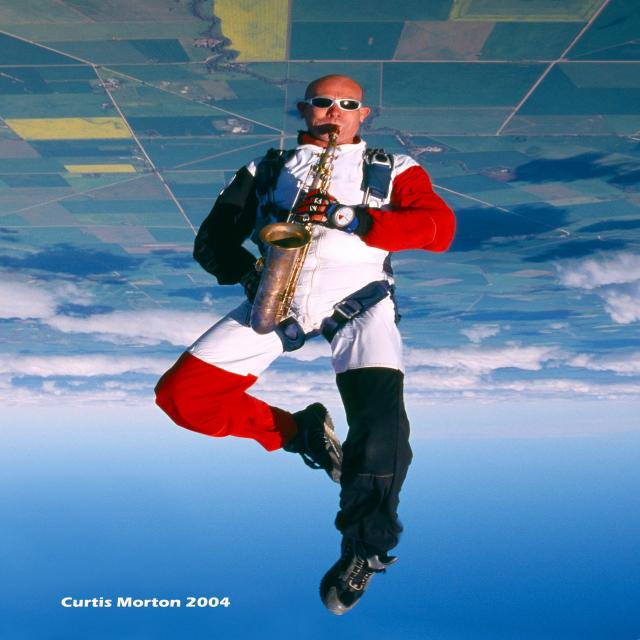saxophone: (248, 127, 344, 336)
